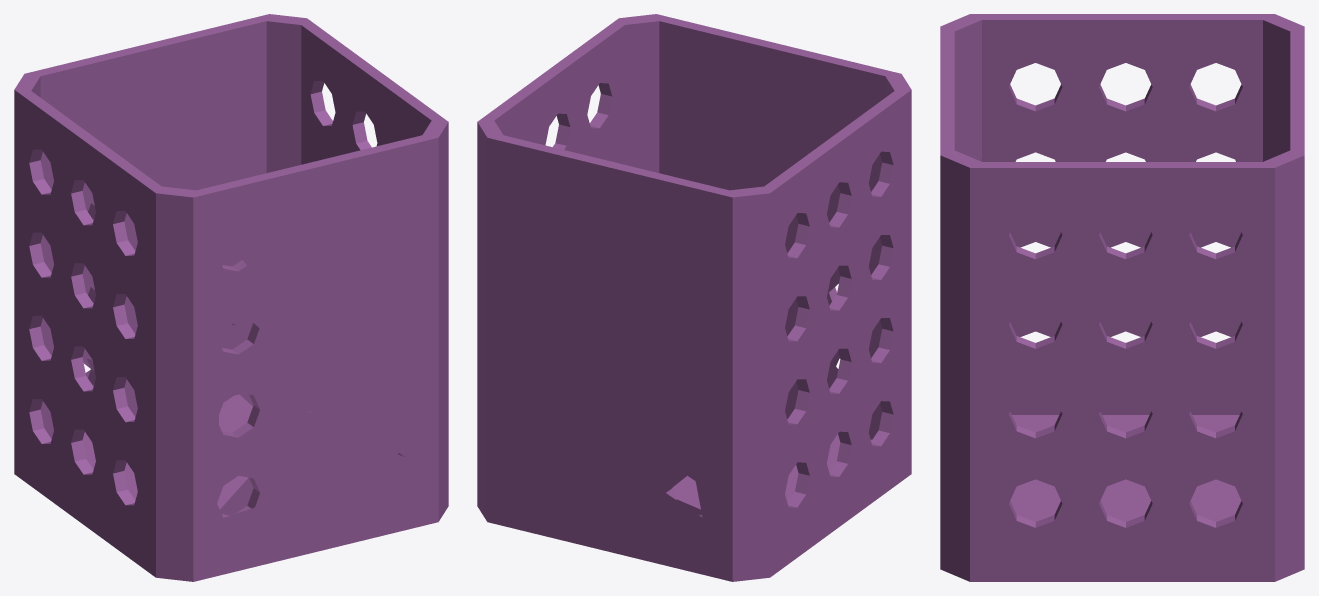
Rendered from Blyantsholder_Lilla.fbx.
3 renders of one model, left to right at view 1: azimuth 30°, elevation 25°; view 2: azimuth 150°, elevation 25°; view 3: azimuth 270°, elevation 25°, orthographic. The views are drawn at different scales.
Visible parts, largest first — view 1: Cube; view 2: Cube; view 3: Cube.
Boxes of the visible parts, x1=… form: Cube: x1=14, y1=14, x2=448, y2=581; Cube: x1=477, y1=14, x2=911, y2=581; Cube: x1=940, y1=14, x2=1304, y2=581.
Size of the model in its own units: 13.91 by 17.45 by 13.91.
